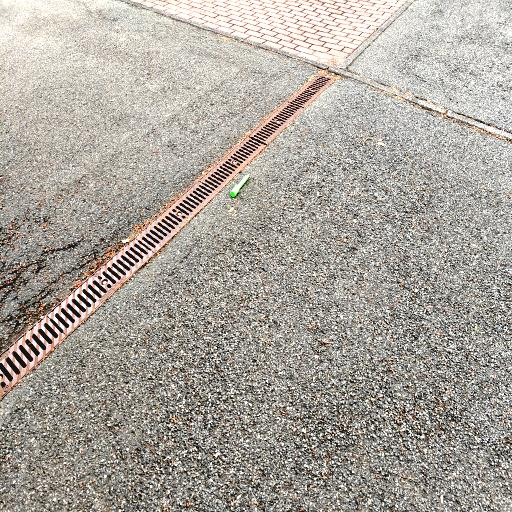Probe-Detection: (230, 174, 250, 198)
